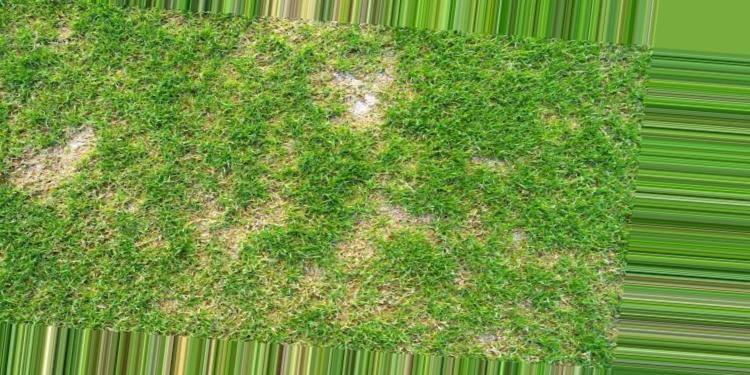patch: (350, 200, 442, 303), (314, 60, 424, 145), (17, 122, 112, 208), (225, 183, 304, 268)
